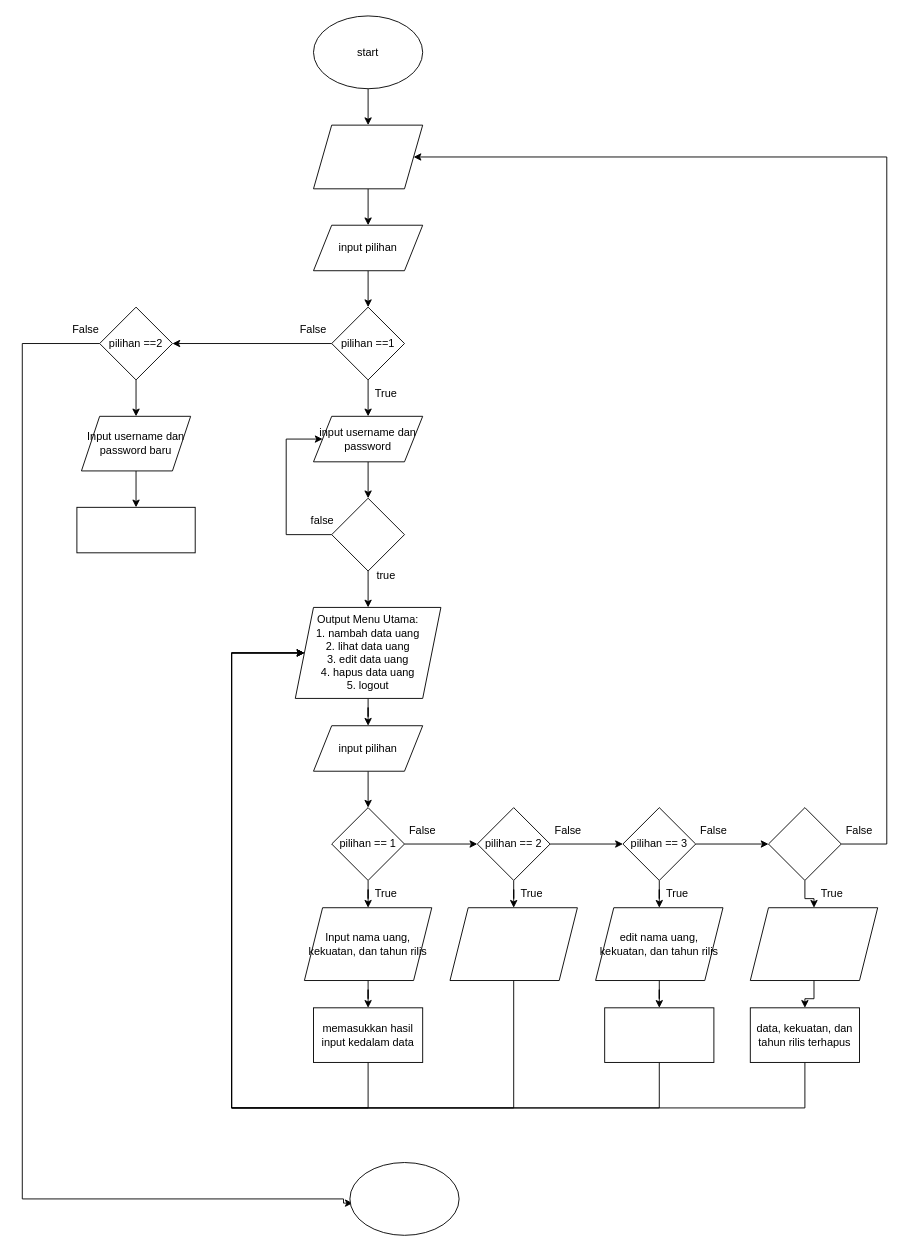
This 910x1251 diagram has some shape labels left out. The shapes that lost their labels are listed below. From the top down, each one's box as (x1, y1, x2, y2) in pixels, then its label:
(313, 124, 423, 189): output menu 1. register 2. login 3. keluar
(76, 506, 195, 553): Menyimpan user baru
(331, 497, 404, 571): user ada?
(768, 807, 841, 880): pilihan == 4
(449, 907, 577, 981): tampilkan nama uang, kekuatan dan tahun rilis
(749, 907, 878, 981): hapus data uang, kekuatan, dan tahun rilis
(604, 1007, 714, 1062): memasukkan hasil edit kedalam data
(349, 1162, 459, 1235): END
